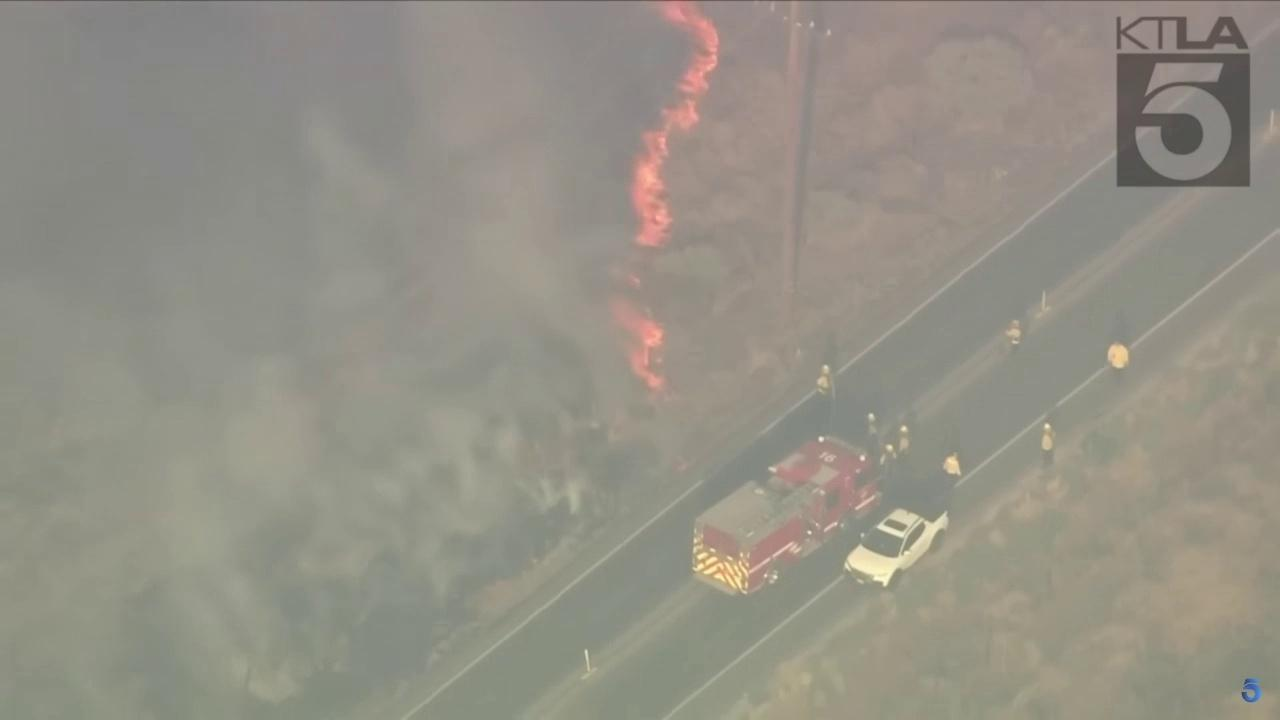fire: (626, 0, 720, 251), (609, 299, 667, 389)
smoke: (0, 0, 699, 720)
